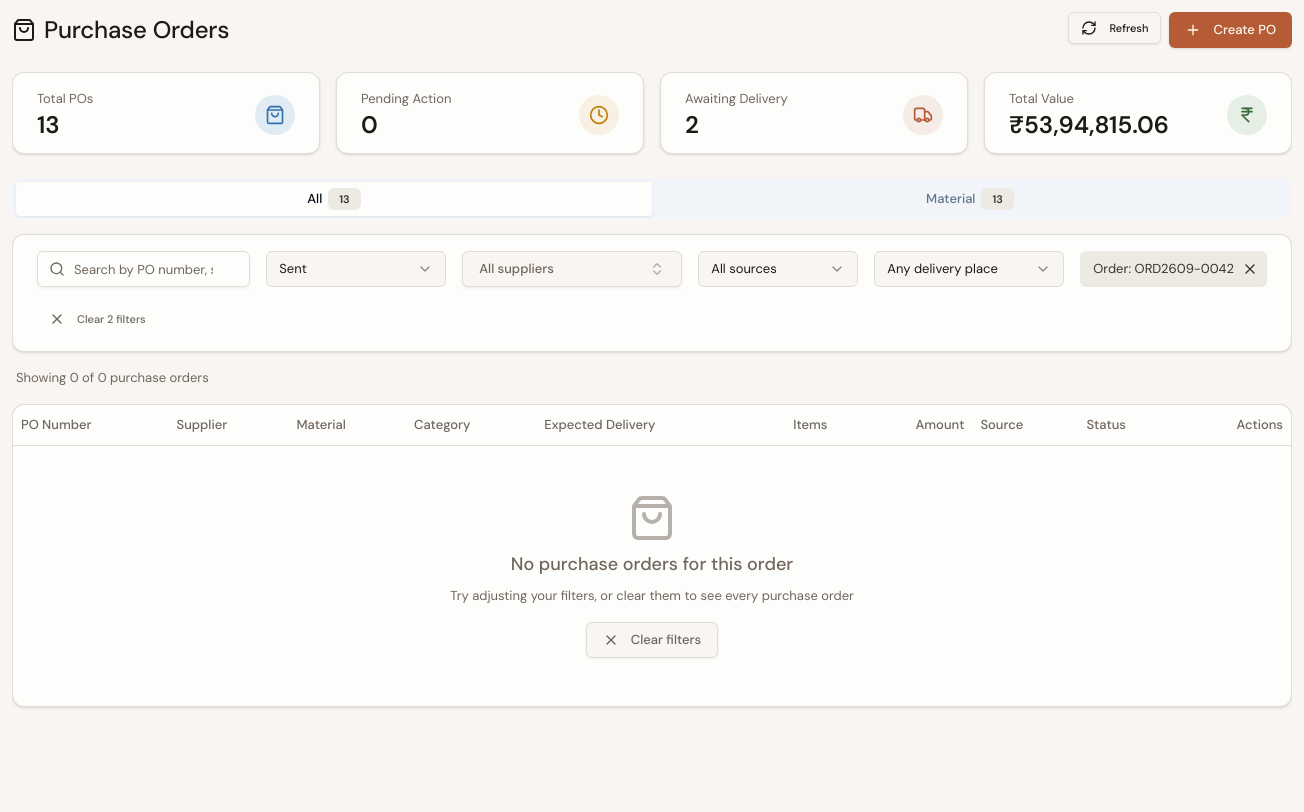
Test: PurchaseOrderList › names the order a ?orderId= link scopes to, and removes only that filter
Expected: the text "Order: ORD2609-0042" is shown, [1080,251,1267,287]
Expected: the text "No purchase orders for this order" is shown, [511,550,793,578]
Click the button named "Remove the order filter" at (1250, 269), box [1238,257,1262,281]
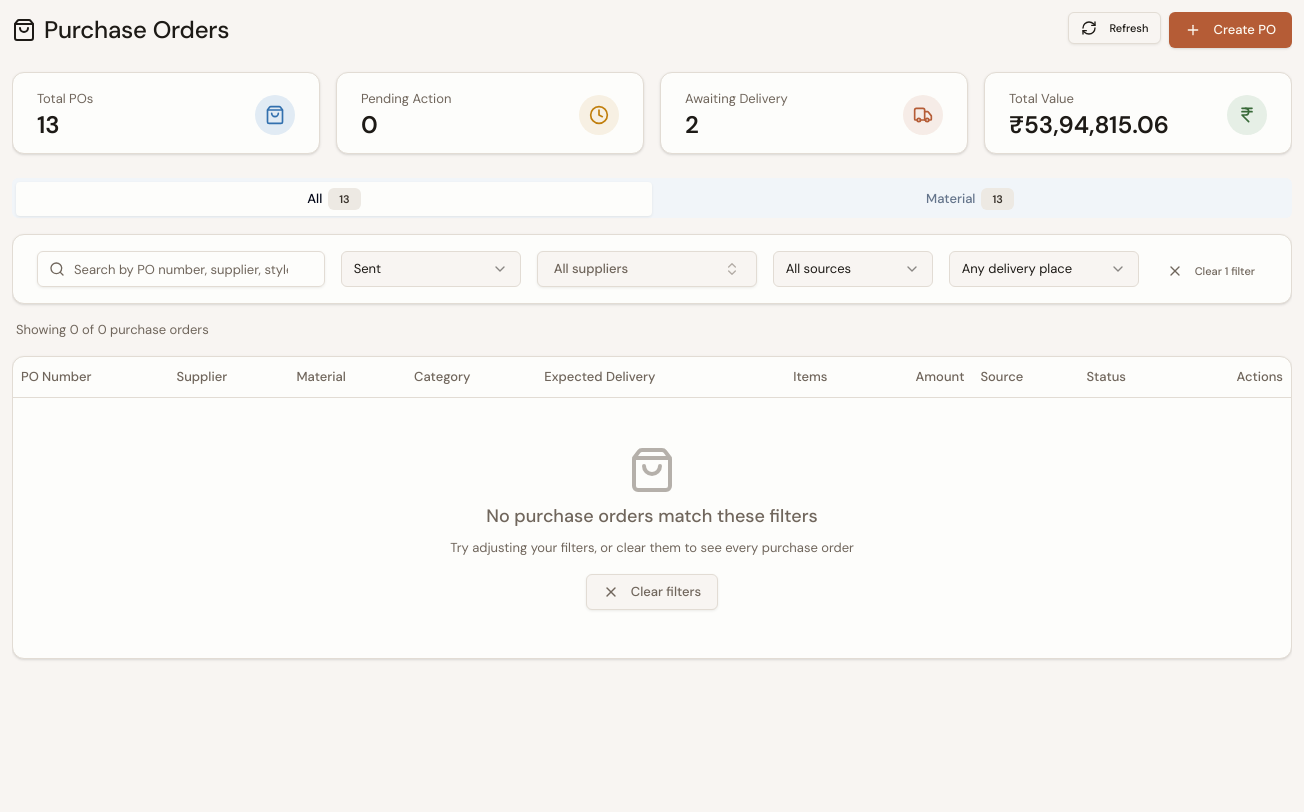
Result: the text "Order:" is gone
